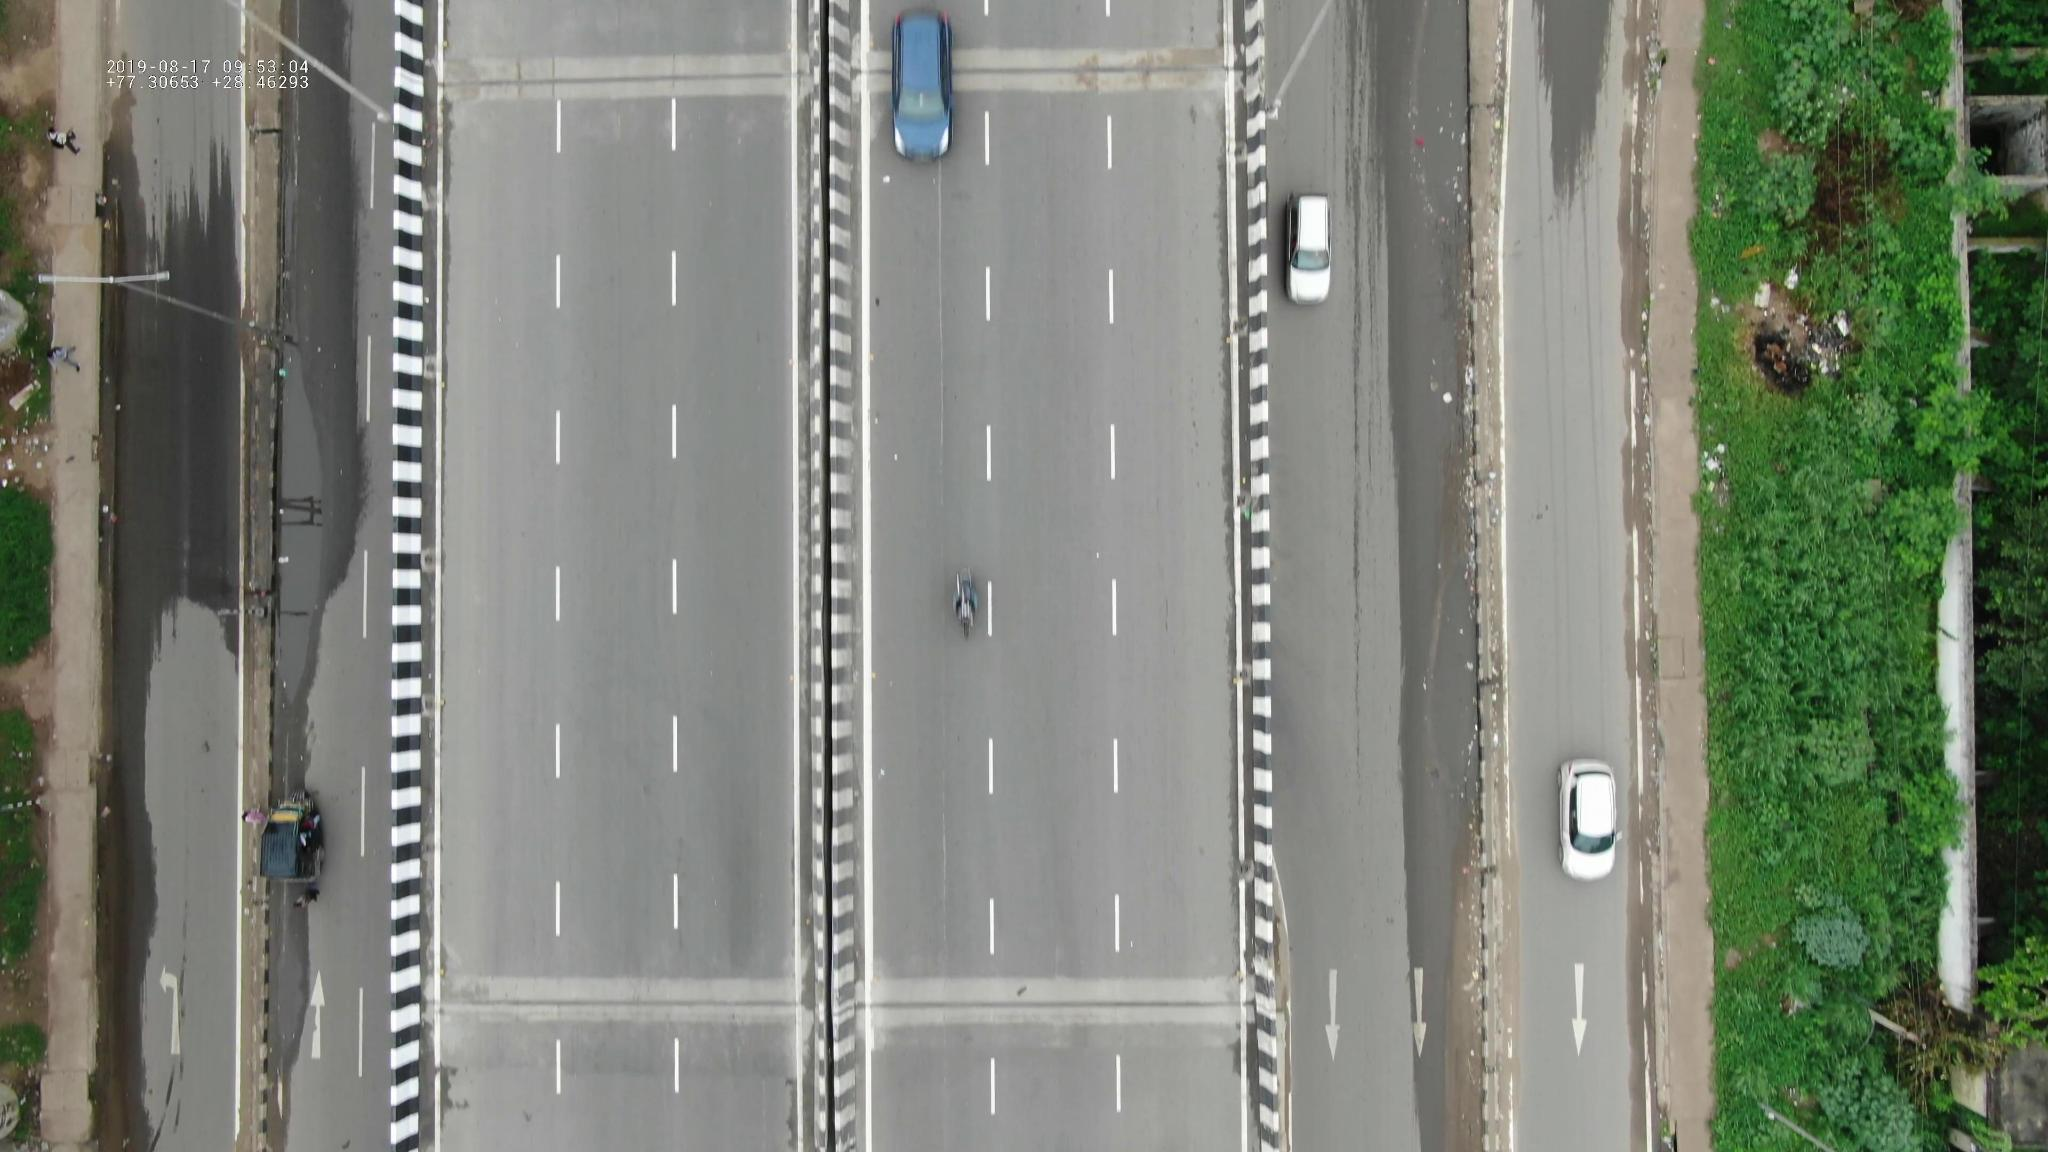Road_side_garbage: (1732, 279, 1858, 408)
